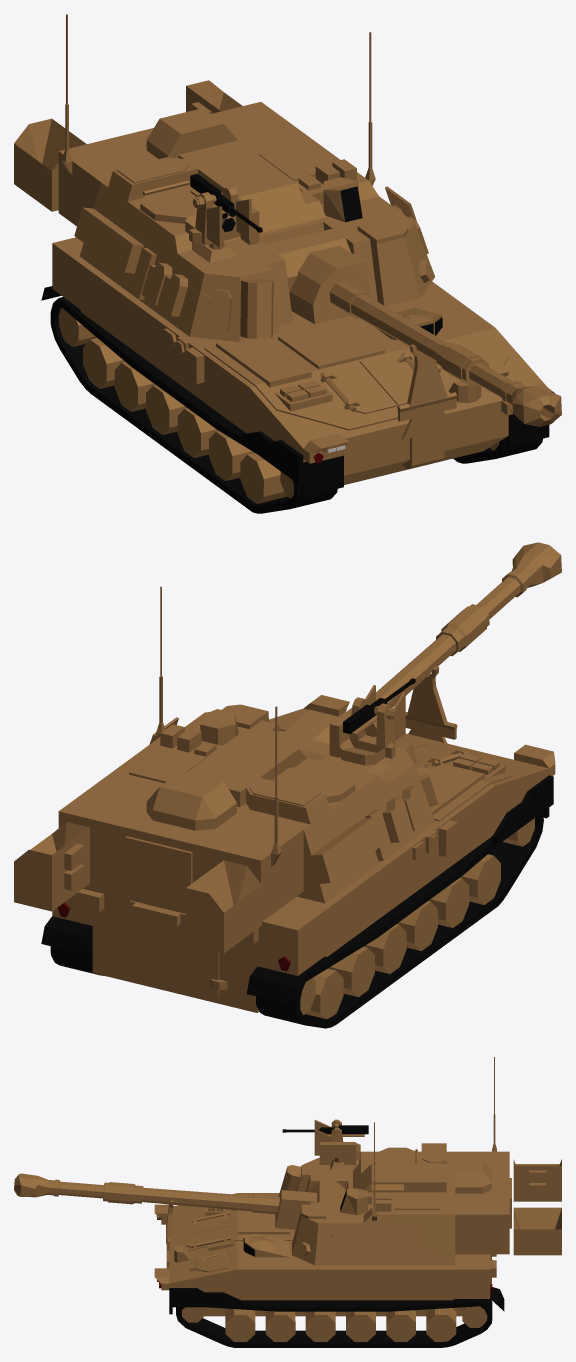
File: Paladin_NATO-Desert.fbx
The picture shows the model from 3 angles, top to bottom: view 1: azimuth 30°, elevation 25°; view 2: azimuth 150°, elevation 25°; view 3: azimuth 270°, elevation 25°; orthographic projection. The views are drawn at different scales.
Visible parts, largest first — view 1: Paladin_Turret, Paladin_Body, Paladin_Traks_R, Paladin_Turret_Main-Cannon_Bod, Paladin_Turret_Main-Cannon, Paladin_Fenders, Paladin_Machine-Gun_Turret, Paladin_Body_Cannon-Stop, Paladin_Traks_L, Paladin_Machine-Gun; view 2: Paladin_Turret, Paladin_Body, Paladin_Traks_R, Paladin_Turret_Main-Cannon, Paladin_Fenders, Paladin_Machine-Gun_Turret, Paladin_Turret_Main-Cannon_Bod, Paladin_Body_Cannon-Stop, Paladin_Traks_L, Paladin_Machine-Gun; view 3: Paladin_Turret, Paladin_Body, Paladin_Traks_L, Paladin_Turret_Main-Cannon, Paladin_Turret_Main-Cannon_Bod, Paladin_Fenders, Paladin_Machine-Gun_Turret, Paladin_Machine-Gun.
Boxes of the visible parts, left/top/right/bottom form: Paladin_Turret: left=14, top=14, right=434, bottom=341; Paladin_Body: left=52, top=237, right=555, bottom=503; Paladin_Traks_R: left=50, top=297, right=337, bottom=513; Paladin_Turret_Main-Cannon_Bod: left=265, top=228, right=370, bottom=324; Paladin_Turret_Main-Cannon: left=351, top=294, right=561, bottom=426; Paladin_Fenders: left=41, top=286, right=553, bottom=496; Paladin_Machine-Gun_Turret: left=185, top=186, right=259, bottom=249; Paladin_Body_Cannon-Stop: left=407, top=344, right=447, bottom=406; Paladin_Traks_L: left=453, top=437, right=542, bottom=463; Paladin_Machine-Gun: left=190, top=174, right=262, bottom=232; Paladin_Turret: left=14, top=586, right=437, bottom=953; Paladin_Body: left=52, top=695, right=555, bottom=1018; Paladin_Traks_R: left=256, top=812, right=543, bottom=1028; Paladin_Turret_Main-Cannon: left=376, top=542, right=561, bottom=707; Paladin_Fenders: left=41, top=775, right=553, bottom=1003; Paladin_Machine-Gun_Turret: left=329, top=685, right=405, bottom=765; Paladin_Turret_Main-Cannon_Bod: left=259, top=709, right=338, bottom=760; Paladin_Body_Cannon-Stop: left=407, top=666, right=447, bottom=725; Paladin_Traks_L: left=50, top=926, right=103, bottom=975; Paladin_Machine-Gun: left=343, top=678, right=415, bottom=733; Paladin_Turret: left=280, top=1057, right=561, bottom=1265; Paladin_Body: left=154, top=1193, right=496, bottom=1341; Paladin_Traks_L: left=176, top=1299, right=492, bottom=1347; Paladin_Turret_Main-Cannon: left=14, top=1173, right=253, bottom=1211; Paladin_Turret_Main-Cannon_Bod: left=252, top=1181, right=345, bottom=1229; Paladin_Fenders: left=169, top=1287, right=504, bottom=1314; Paladin_Machine-Gun_Turret: left=314, top=1119, right=360, bottom=1164; Paladin_Machine-Gun: left=282, top=1125, right=368, bottom=1134.
Size of the model in its own units: 388 by 483 by 1091.
